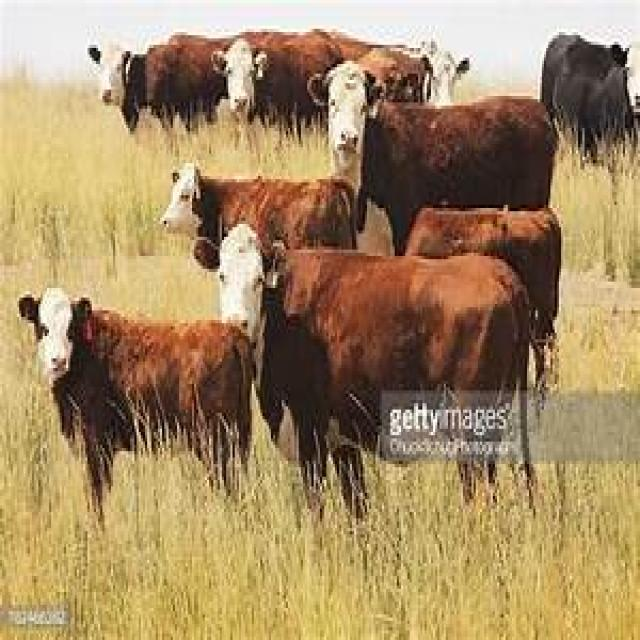animal: (211, 232, 536, 466), (17, 285, 254, 534), (305, 54, 557, 253), (158, 160, 358, 253), (537, 29, 638, 166), (80, 22, 192, 135), (215, 18, 282, 124)
